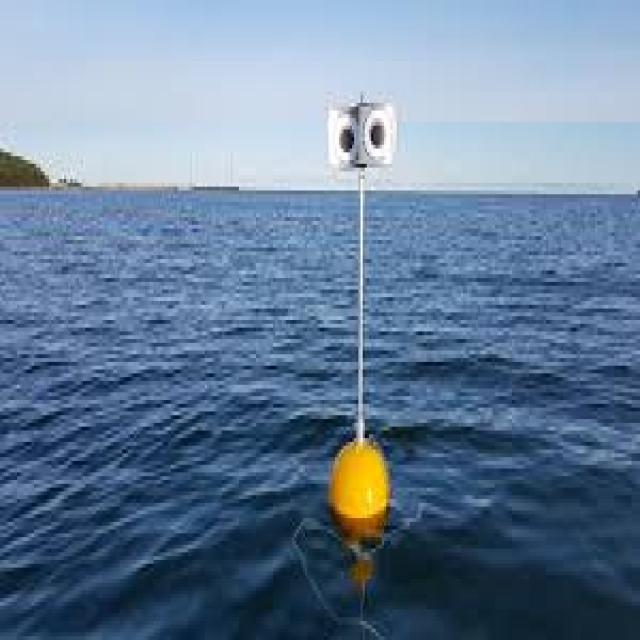2.5 sepcial mark: (316, 84, 403, 554)
